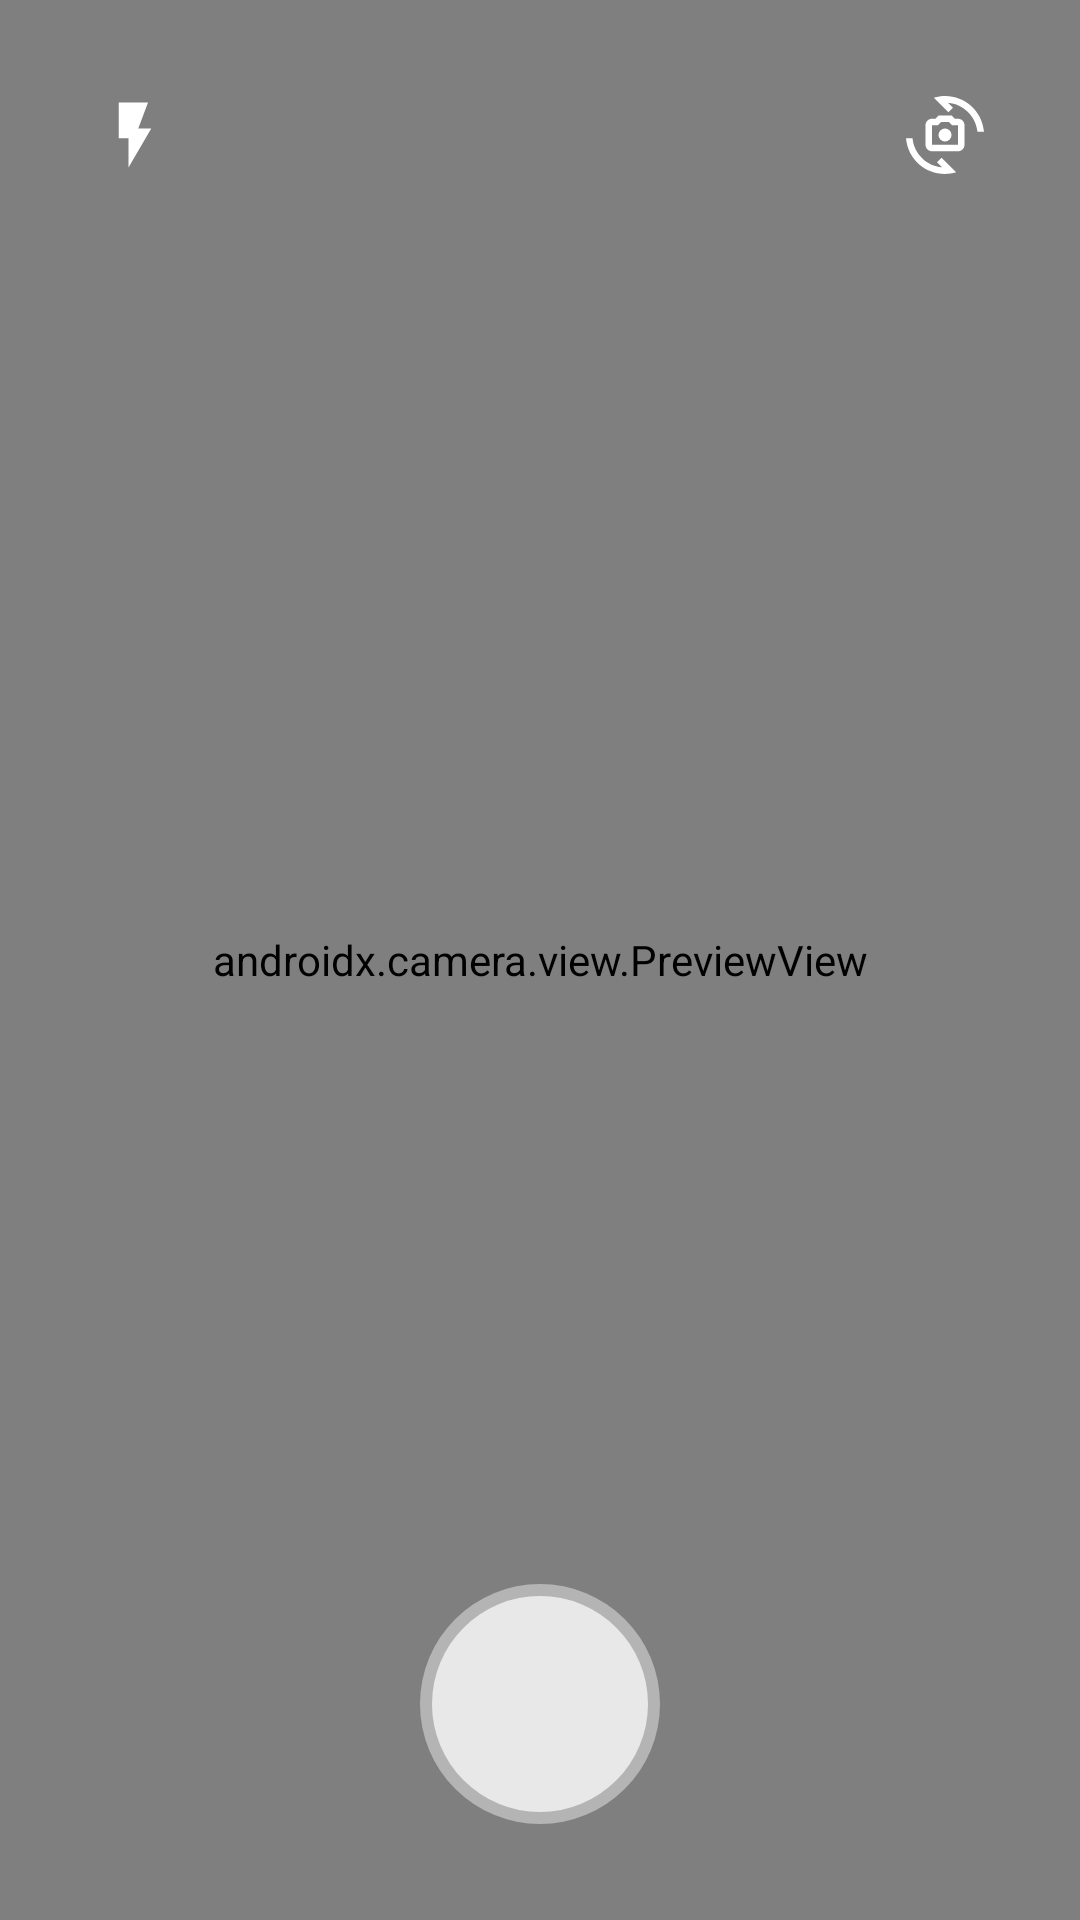

Named icons in this screenshot (1080px x 1920px) and their bounding boxes, (x1,y1,x2,y2):
Flip camera: (906,96,984,174)
Turn on flashlight: (118,102,151,167)
